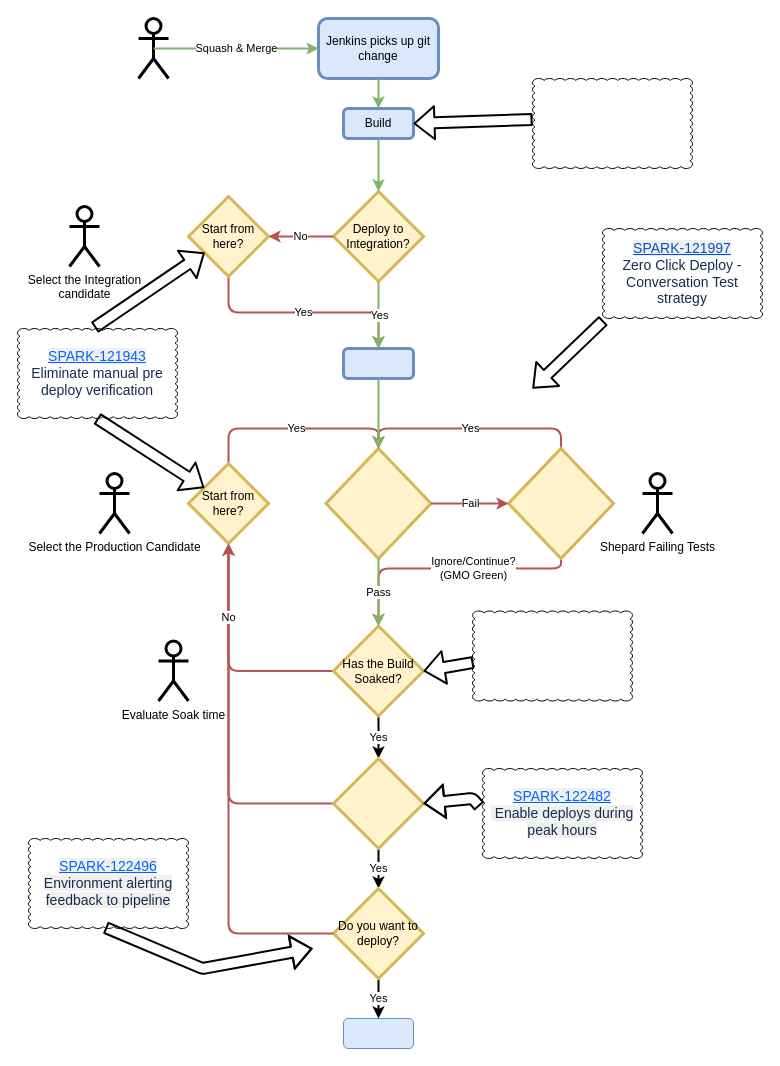
This 780x1066 diagram has some shape labels left out. Here are the shapes that lost their labels. From the top down, the centre of each, then its label:
At point (153, 48): "Developer".
At point (612, 123): "SPARK-111649 Evaluate new SA tool(Sonarqube).".
At point (378, 363): "Integration Deploy".
At point (378, 503): "Integration Post Deploy".
At point (560, 503): "Retry?".
At point (552, 655): "SPARK-121969 Eliminate the need for integration soak time".
At point (378, 803): "Is the window open?".
At point (378, 1033): "Production Deploy".
